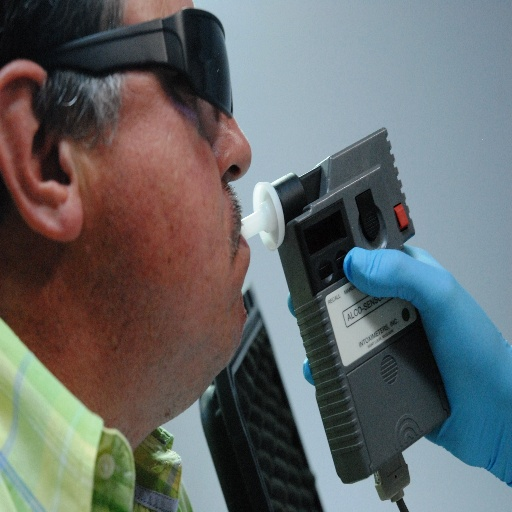hand: (333, 217, 499, 480)
